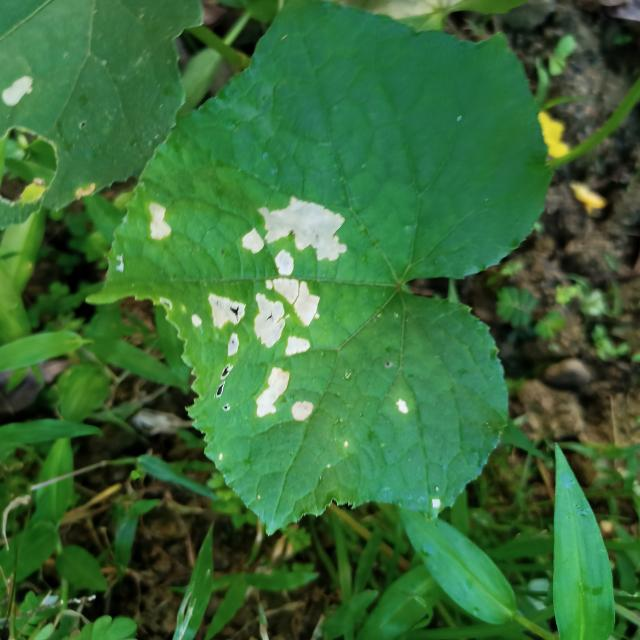disease_cucumber: (185, 192, 352, 437), (136, 193, 177, 256), (0, 72, 40, 118), (383, 397, 418, 427)
